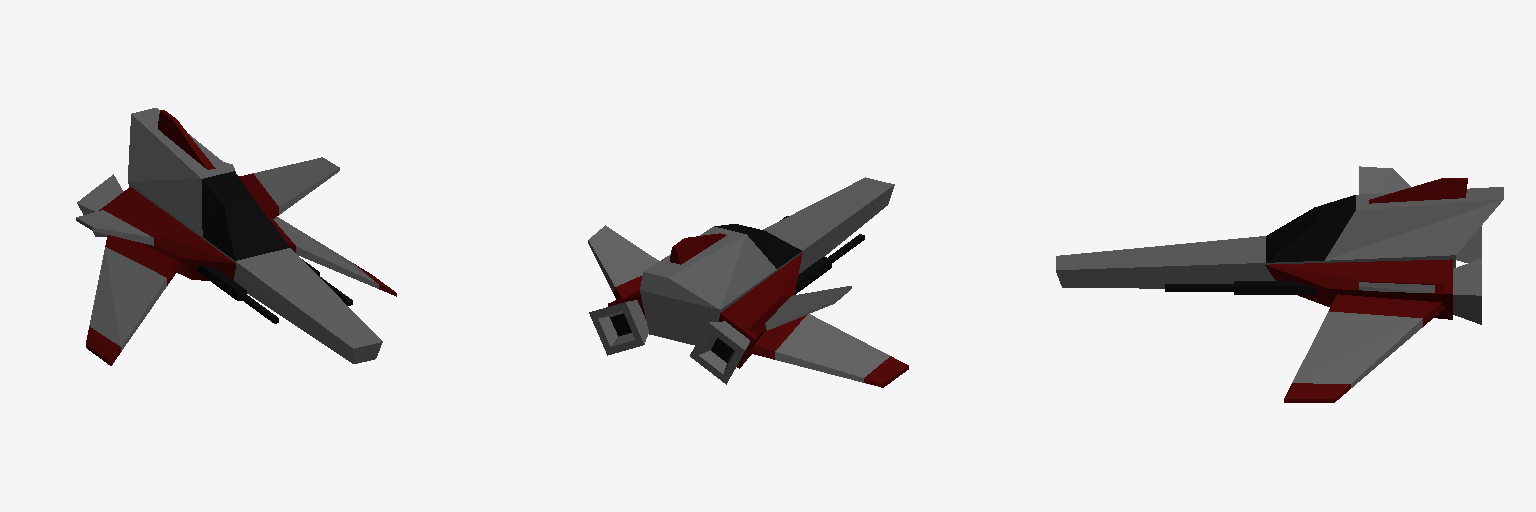
Rendered from spaceship3.obj.
3 renders of one model, left to right at view 1: azimuth 30°, elevation 25°; view 2: azimuth 150°, elevation 25°; view 3: azimuth 270°, elevation 25°, orthographic.
Parts seen in each view (by area): view 1: spaceship3, spaceship3.004, spaceship3.005, spaceship3.008, spaceship3.003, spaceship3.007, spaceship3.013, spaceship3.012, spaceship3.001; view 2: spaceship3, spaceship3.004, spaceship3.008, spaceship3.005, spaceship3.010, spaceship3.012, spaceship3.007, spaceship3.013, spaceship3.001; view 3: spaceship3, spaceship3.003, spaceship3.006, spaceship3.010, spaceship3.013, spaceship3.007, spaceship3.002, spaceship3.008, spaceship3.011, spaceship3.012.
Part boxes in pixels (left/top/right/bottom): spaceship3: left=128, top=108, right=382, bottom=363; spaceship3.004: left=86, top=235, right=179, bottom=365; spaceship3.005: left=99, top=187, right=235, bottom=280; spaceship3.008: left=239, top=157, right=339, bottom=218; spaceship3.003: left=273, top=217, right=396, bottom=296; spaceship3.007: left=76, top=208, right=164, bottom=246; spaceship3.013: left=158, top=110, right=215, bottom=169; spaceship3.012: left=77, top=174, right=123, bottom=236; spaceship3.001: left=196, top=265, right=246, bottom=300; spaceship3: left=640, top=177, right=894, bottom=344; spaceship3.004: left=750, top=314, right=908, bottom=387; spaceship3.008: left=588, top=225, right=658, bottom=299; spaceship3.005: left=718, top=253, right=802, bottom=368; spaceship3.010: left=589, top=300, right=648, bottom=355; spaceship3.012: left=690, top=321, right=749, bottom=384; spaceship3.007: left=748, top=286, right=851, bottom=333; spaceship3.013: left=670, top=233, right=726, bottom=264; spaceship3.001: left=794, top=257, right=831, bottom=294; spaceship3: left=1056, top=187, right=1503, bottom=288; spaceship3.003: left=1284, top=294, right=1444, bottom=402; spaceship3.006: left=1265, top=259, right=1452, bottom=319; spaceship3.010: left=1453, top=258, right=1481, bottom=324; spaceship3.013: left=1369, top=178, right=1467, bottom=203; spaceship3.007: left=1359, top=166, right=1410, bottom=193; spaceship3.002: left=1234, top=281, right=1318, bottom=294; spaceship3.008: left=1359, top=281, right=1445, bottom=292; spaceship3.011: left=1165, top=284, right=1233, bottom=291; spaceship3.012: left=1456, top=226, right=1481, bottom=262.
Size of the model in its own units: 466 by 240 by 634.